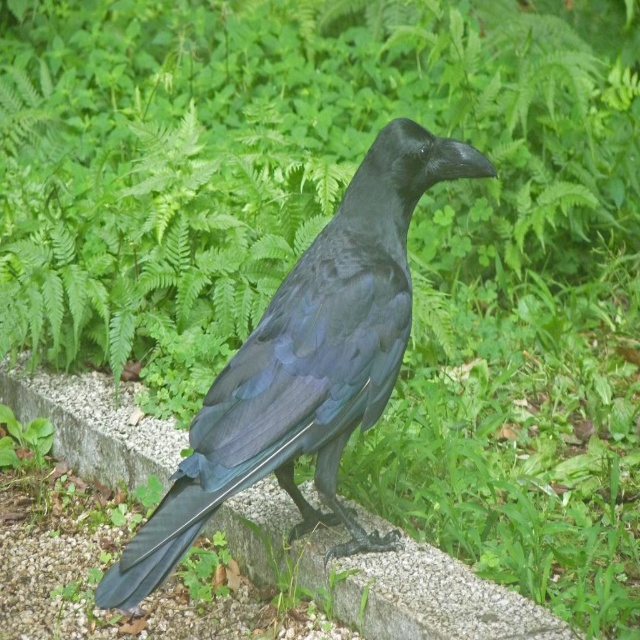Raven: (93, 117, 499, 611)
